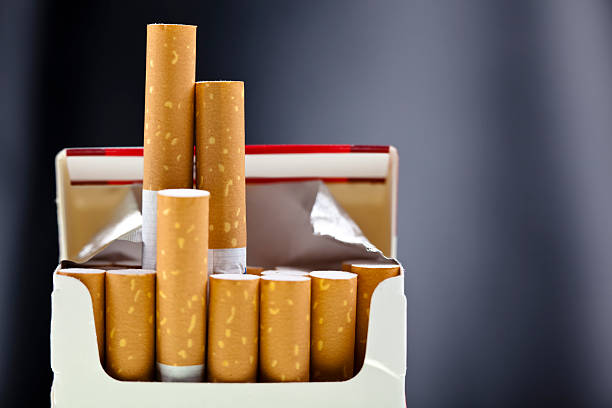cigarette: (50, 22, 405, 408), (141, 23, 197, 270), (154, 187, 210, 382), (195, 79, 247, 274), (204, 273, 260, 383), (103, 268, 156, 382), (351, 262, 401, 377), (310, 269, 359, 382), (260, 275, 311, 383), (56, 268, 105, 373)
